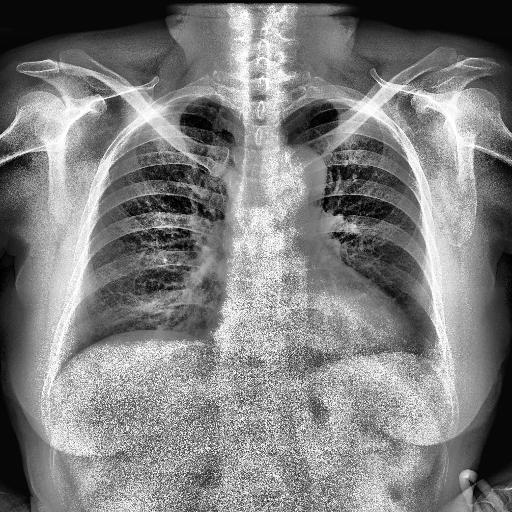0- Aortic enlargement: (268, 142, 327, 218), (264, 144, 328, 212), (272, 145, 326, 198)
11- Pleural thickening: (162, 94, 218, 109), (306, 97, 360, 110)
3- Cardiomegaly: (213, 290, 417, 361), (200, 299, 414, 360)
